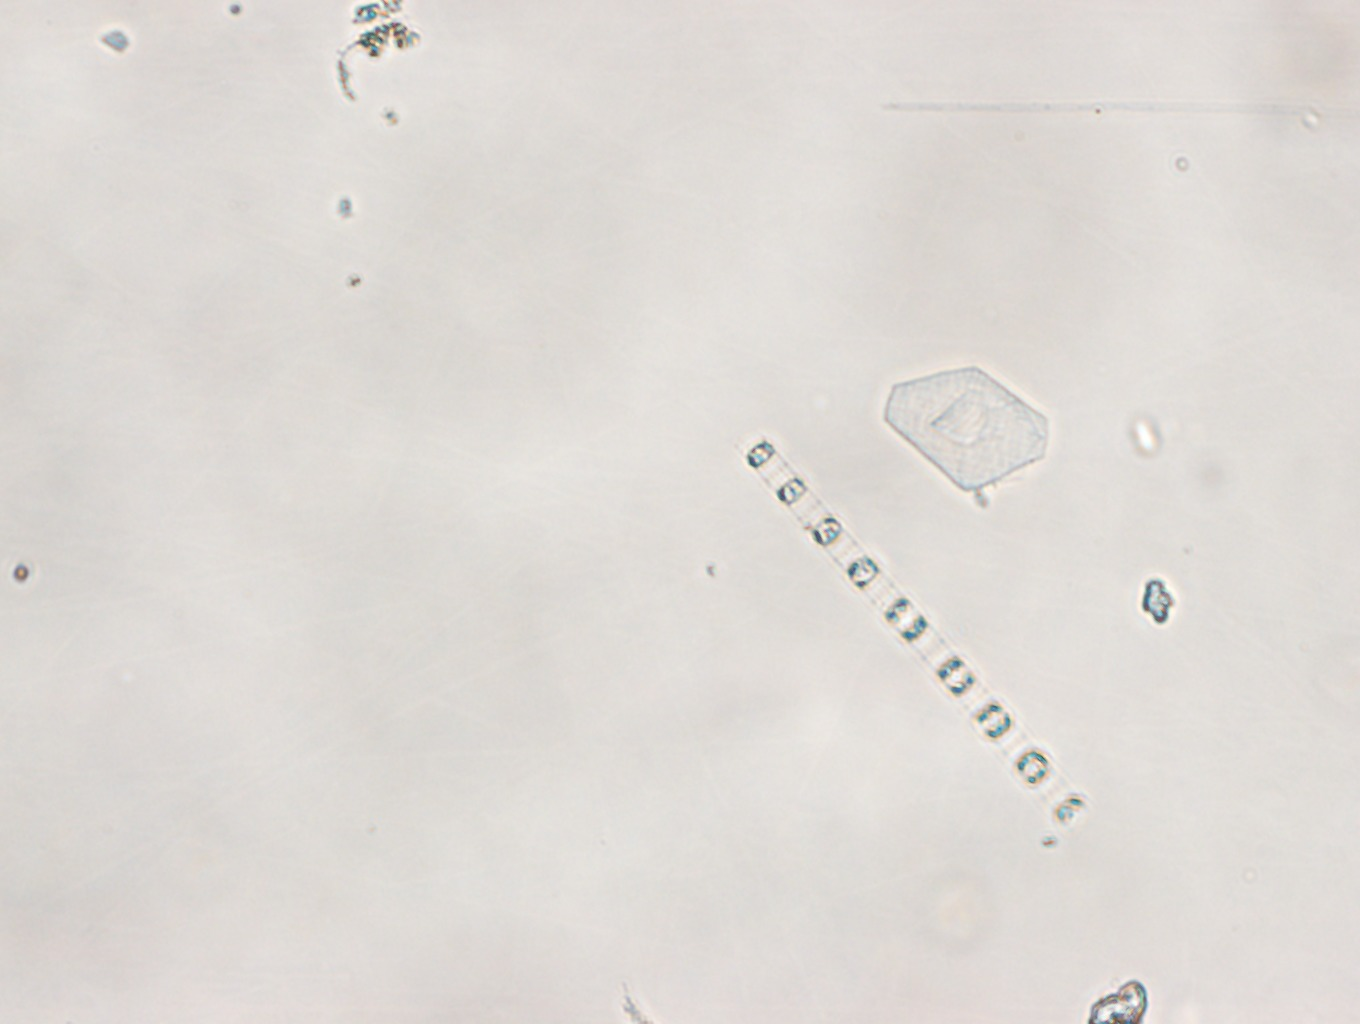skeletonema: (728, 425, 1090, 826)
